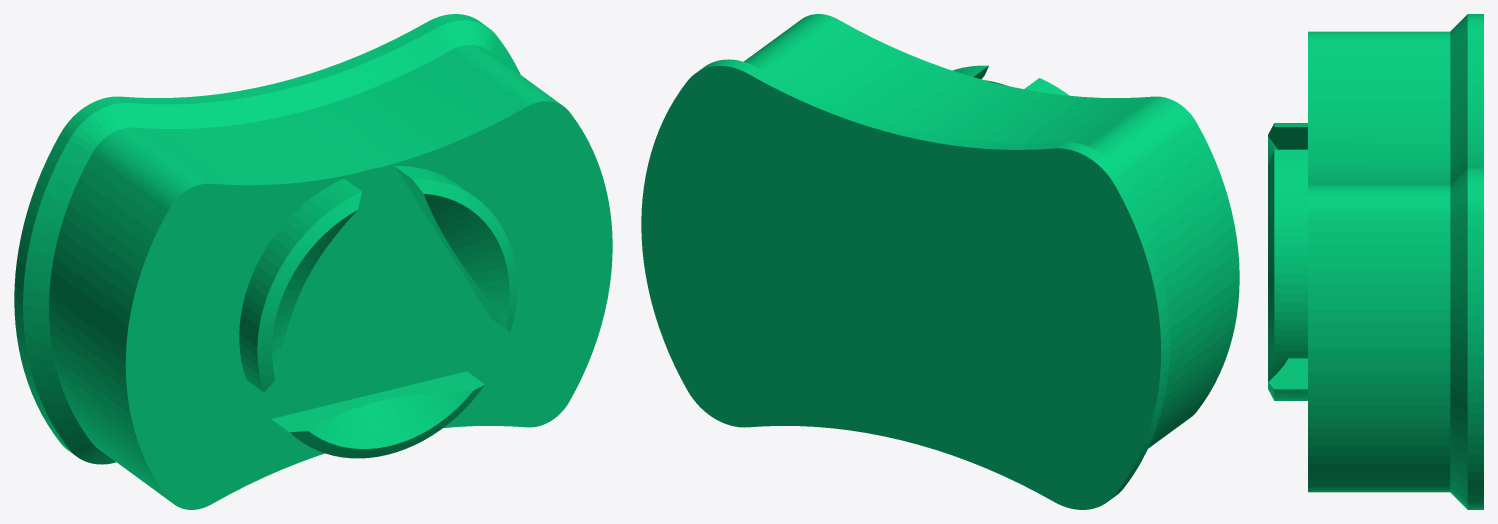
The model's file is key.glb.
3 views of the same model, side by side, from view 1: azimuth 30°, elevation 25°; view 2: azimuth 150°, elevation 25°; view 3: azimuth 270°, elevation 25° (orthographic). The views are drawn at different scales.
Parts seen in each view (by area): view 1: destornillador; view 2: destornillador; view 3: destornillador.
Boxes of the visible parts, x1,y1,x2,y2 form: destornillador: (14, 14, 612, 509); destornillador: (641, 14, 1239, 509); destornillador: (1268, 14, 1483, 509).
Size of the model in its own units: 0.0316 by 0.0208 by 0.0123.
